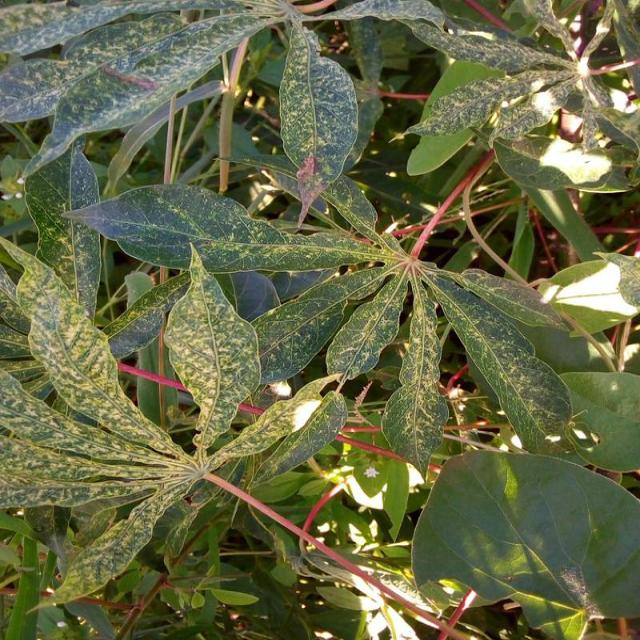cassava leaf: (0, 1, 638, 637), (410, 448, 639, 638), (59, 180, 380, 274), (422, 264, 572, 453), (162, 241, 262, 451), (278, 19, 358, 187)
